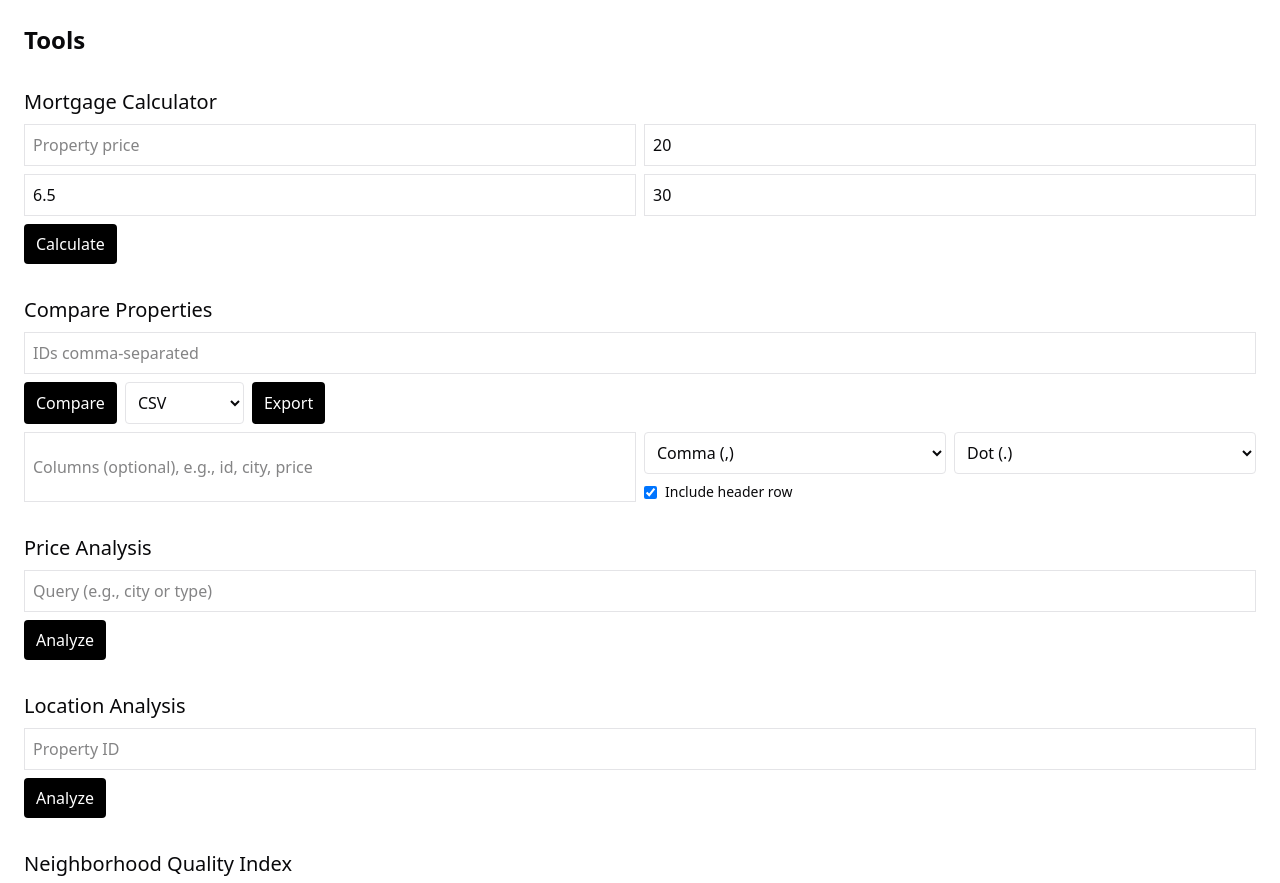
ToolsPage › compares properties
In the field with placeholder "IDs comma-separated": (640, 353) [24, 332, 1256, 374], type "id1,id2"
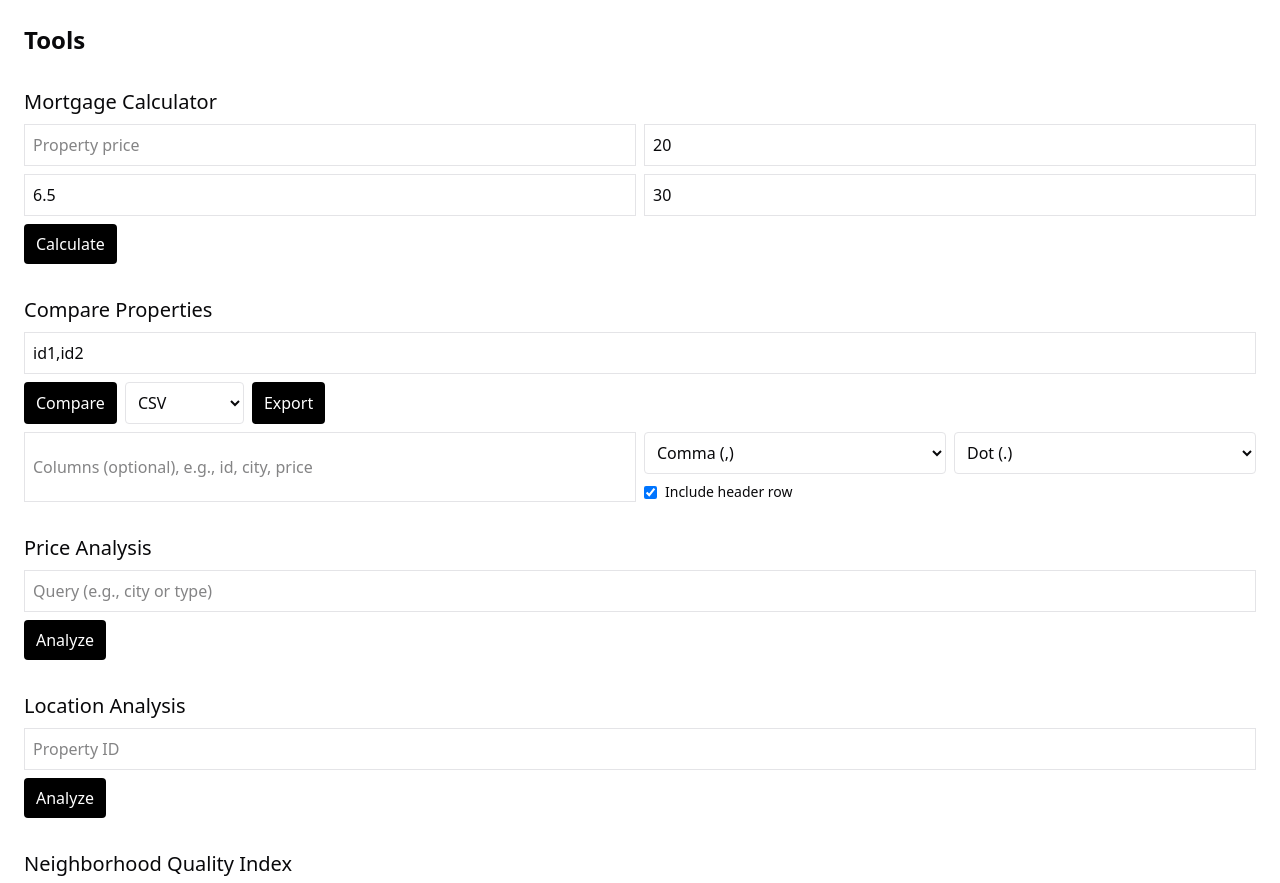
Click the button "Compare": (70, 403) [24, 382, 117, 424]
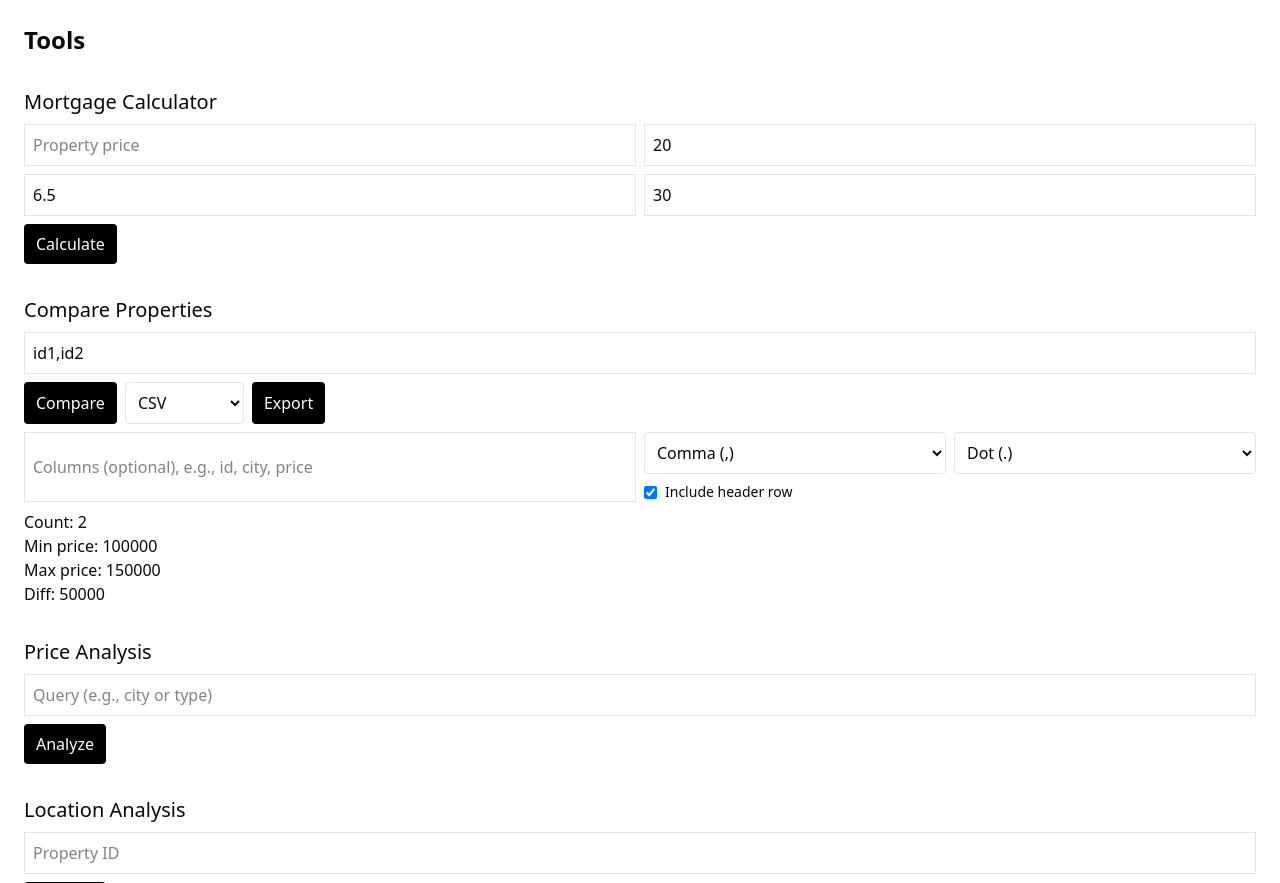
Expected: the text "Count: 2" is shown, [24, 511, 87, 533]
